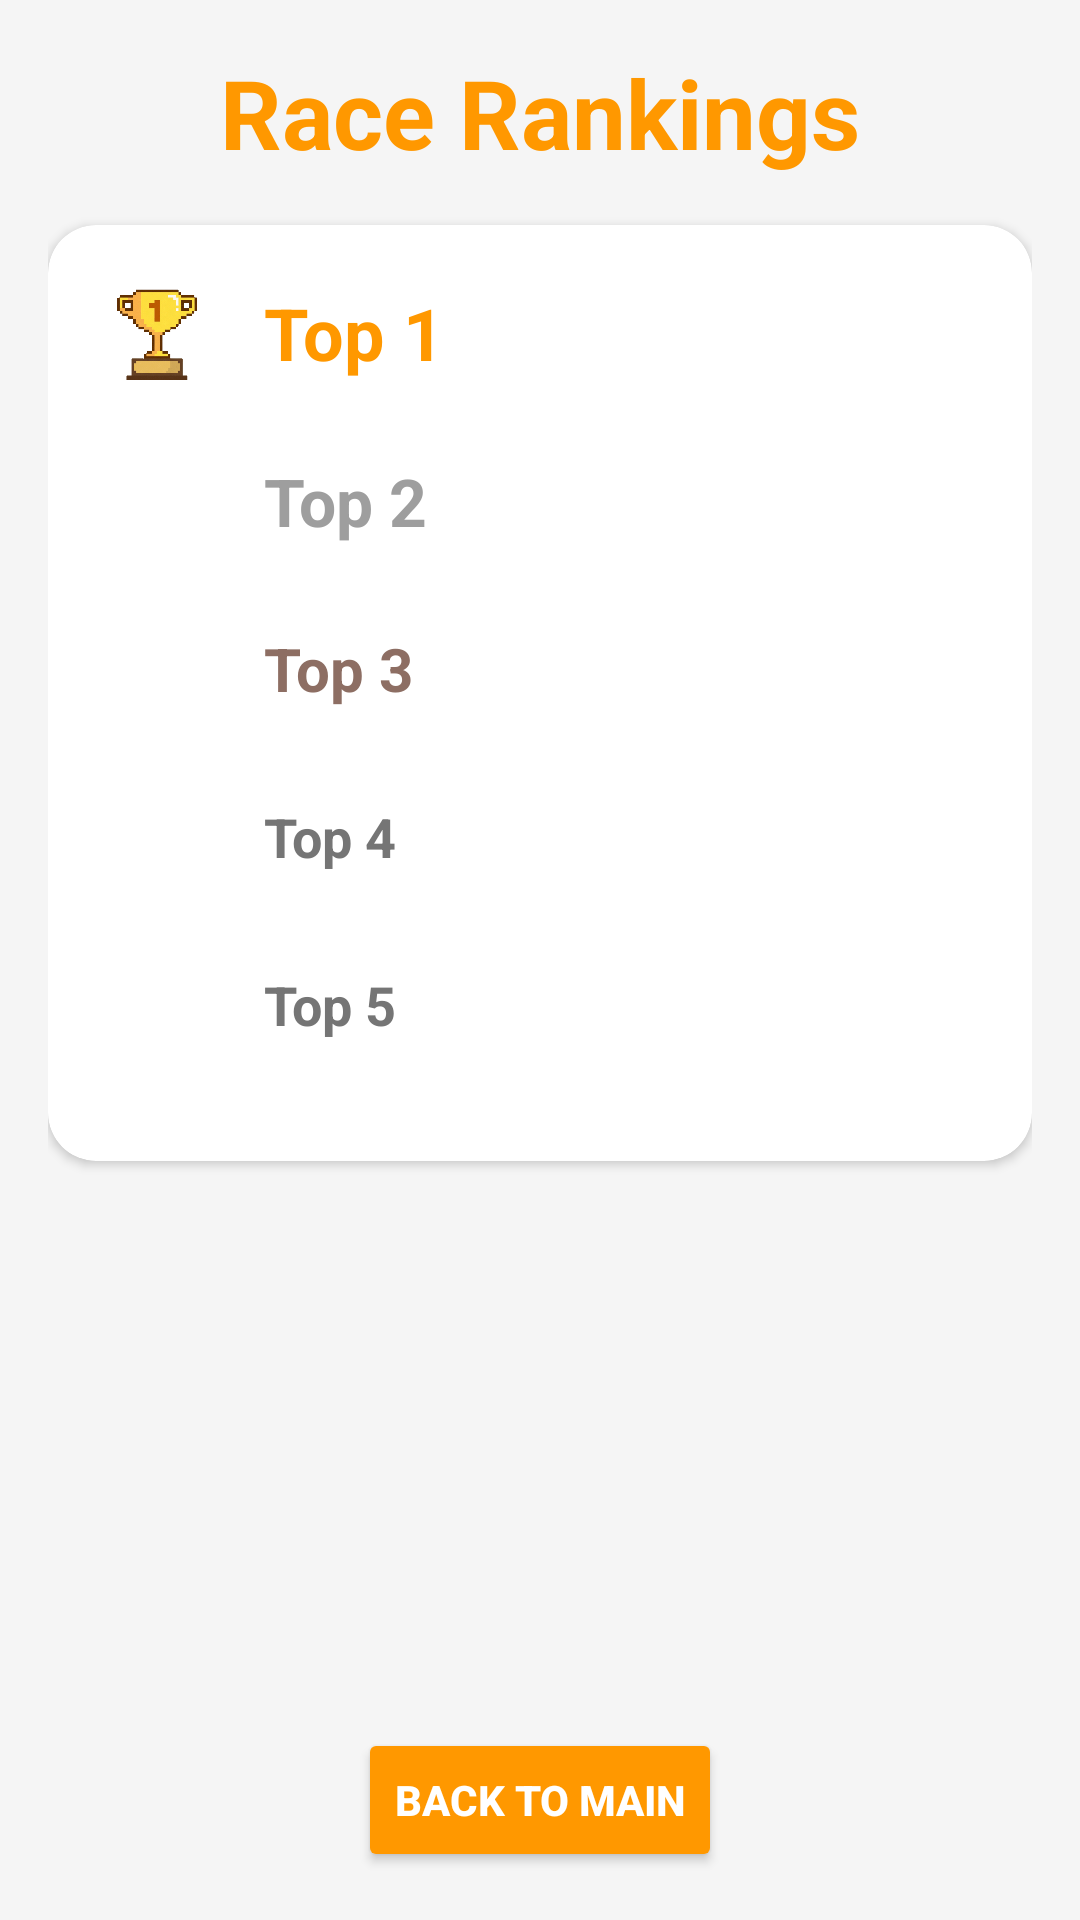

Screen size 1080 x 1920. Icon name, then its box in pixels as (x1,y1,x2,y2):
trophy gold: (117,289,197,380)
